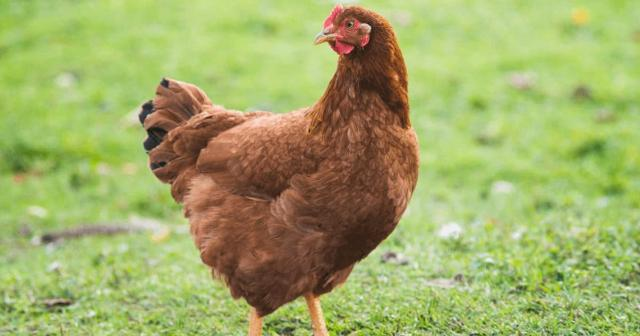Chicken: (139, 4, 419, 336)
